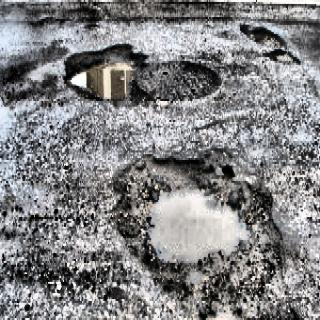pothole: (124, 131, 274, 306), (56, 32, 152, 124), (268, 48, 306, 80), (243, 24, 284, 46)
